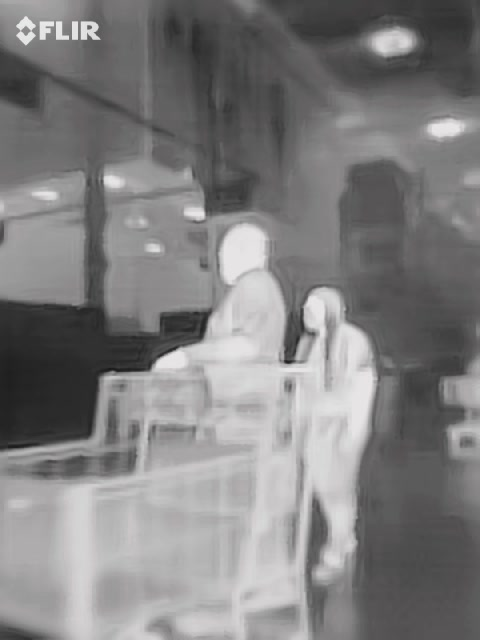head: (217, 223, 269, 283), (303, 287, 349, 337)
